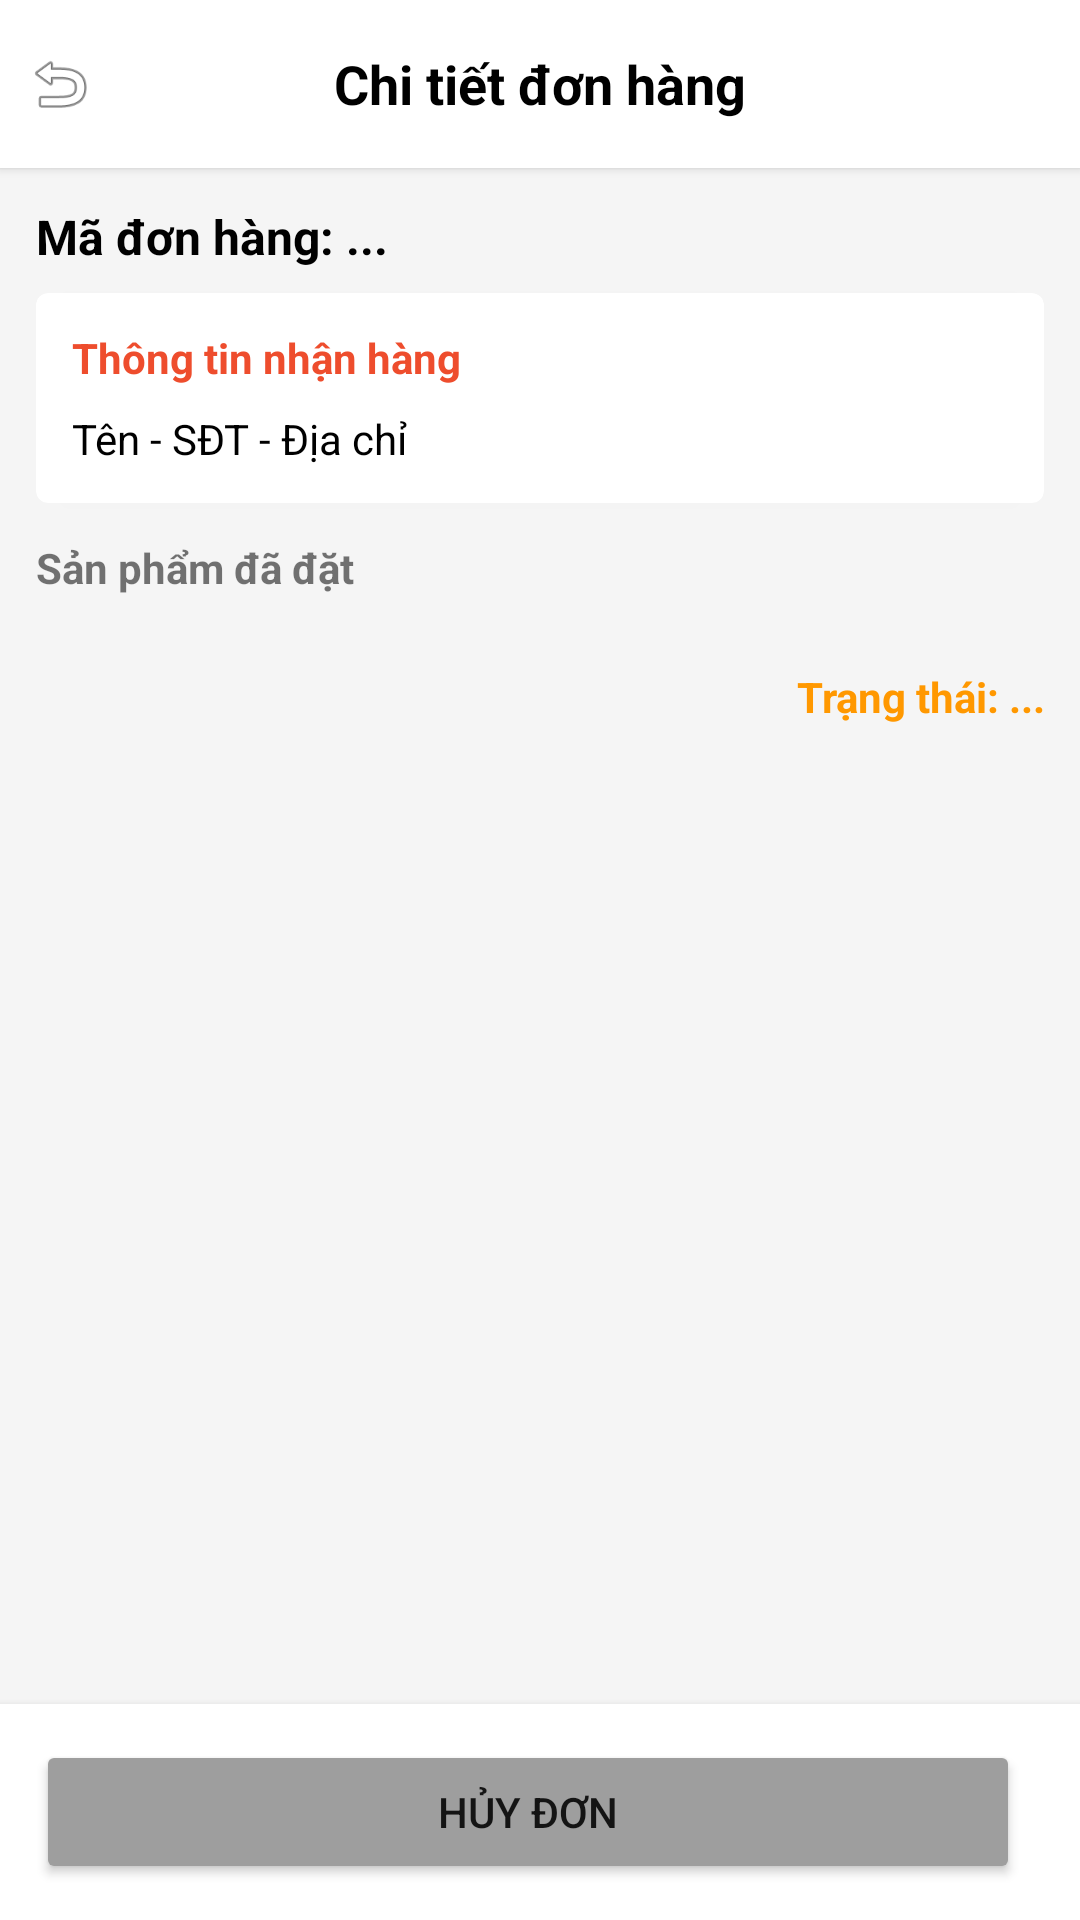

Icon click points for this 1080 x 1920 phone screenshot, format (x=x, y=y):
revert: (x=61, y=84)
